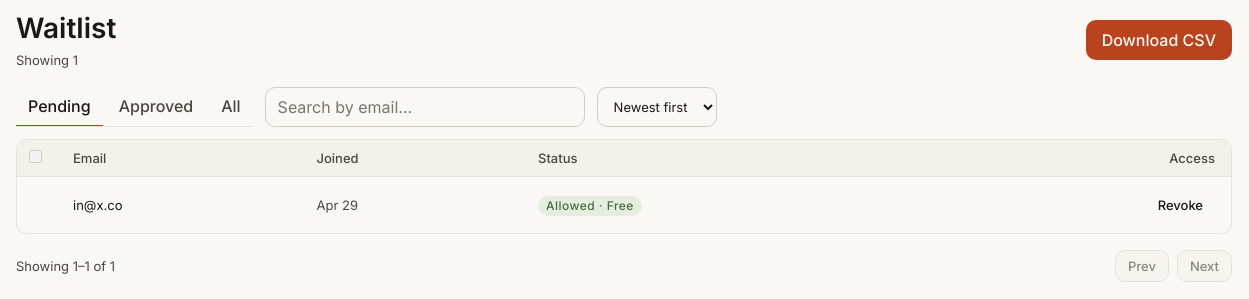
/admin/waitlist — WaitlistView › shows 'Allowed' + 'Revoke' for an approved entry, and revokes on click
This screenshot has width=1249, height=299.
Check: the text "Allowed · Free" is shown, box x1=538 y1=196 x2=642 y2=216
Click the button "Revoke". click: x=1180, y=205
box: x1=1146 y1=189 x2=1215 y2=221
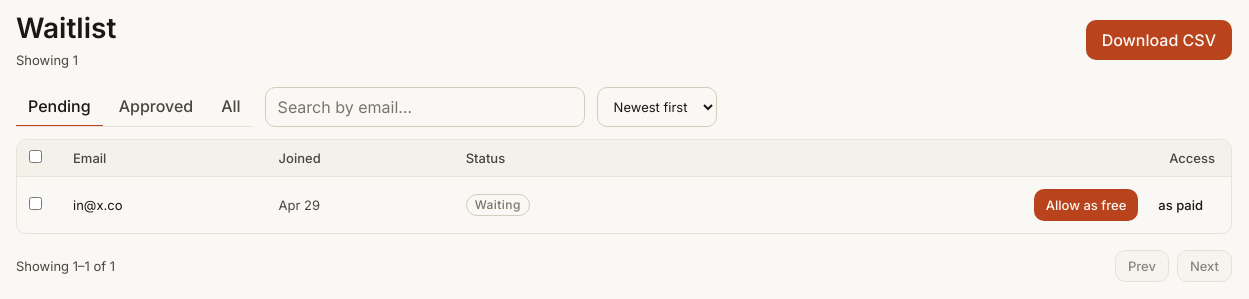
Check: the text "Waiting" is shown, box x1=466 y1=194 x2=530 y2=216
